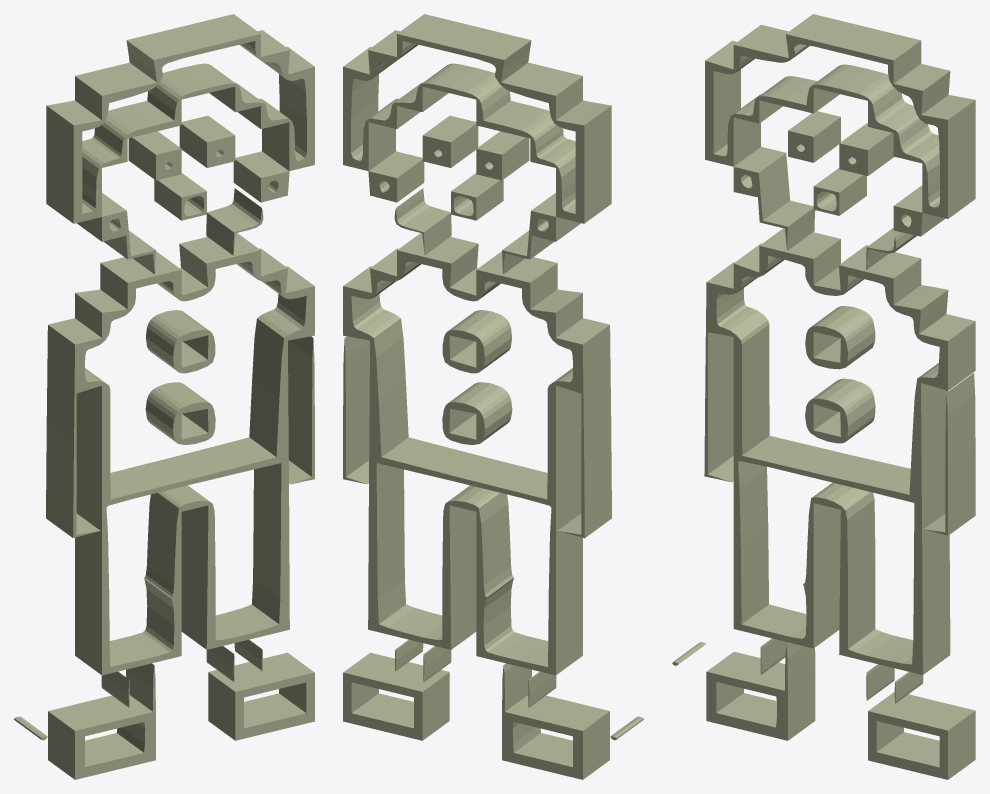
The model's file is fish-2.obj.
3 renders of one model, left to right at view 1: azimuth 30°, elevation 25°; view 2: azimuth 150°, elevation 25°; view 3: azimuth 330°, elevation 25°, orthographic.
Visible parts, largest first — view 1: obj_0; view 2: obj_0; view 3: obj_0.
Boxes of the visible parts, x1,y1,x2,y2 form: obj_0: (14,14,314,779); obj_0: (343,14,643,779); obj_0: (672,14,975,779).
Bounding box in the file's own units: 58 × 142 × 10.
